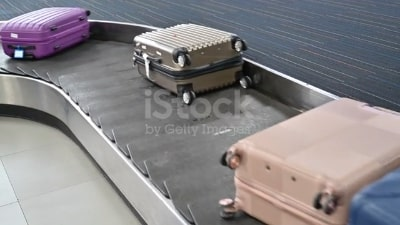baggage: (219, 95, 400, 225), (132, 20, 255, 106), (2, 3, 94, 63)
